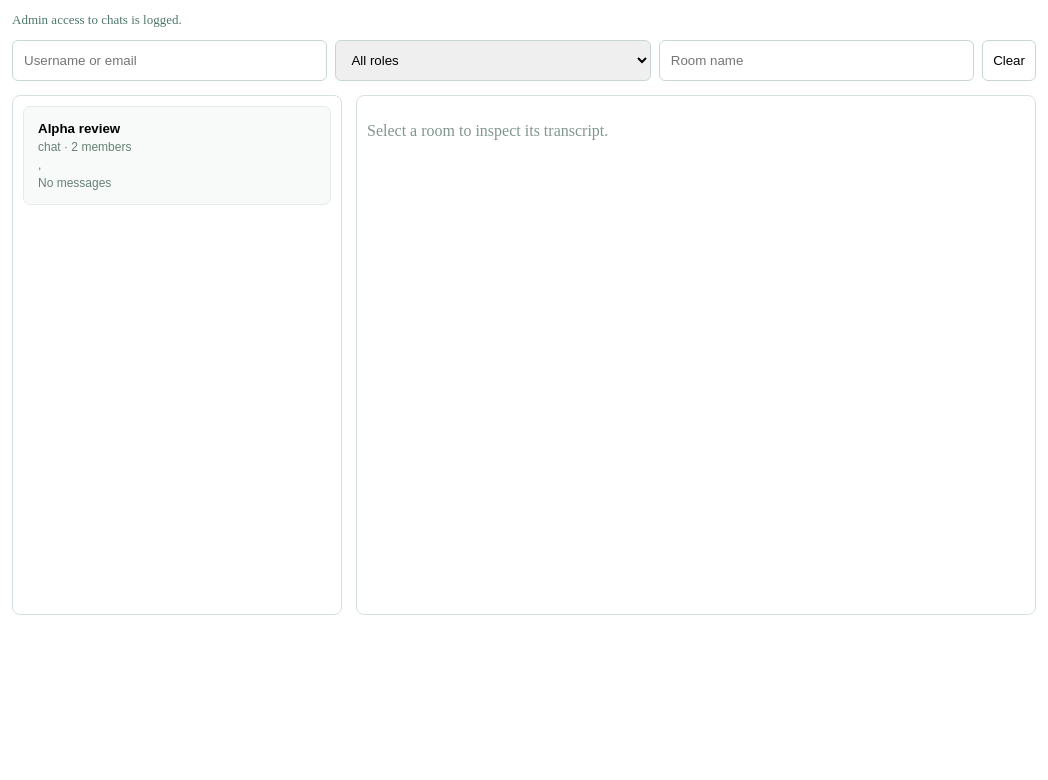
Test case: ADM-CR-01..08 admin surveillance UI › shows an audit notice, title-cased sender tags, and read-only transcript
Expected: the text "Admin access to chats is logged." is shown, [12,12,182,27]
Click the text "Alpha review": [79, 128] box [38,121,120,136]
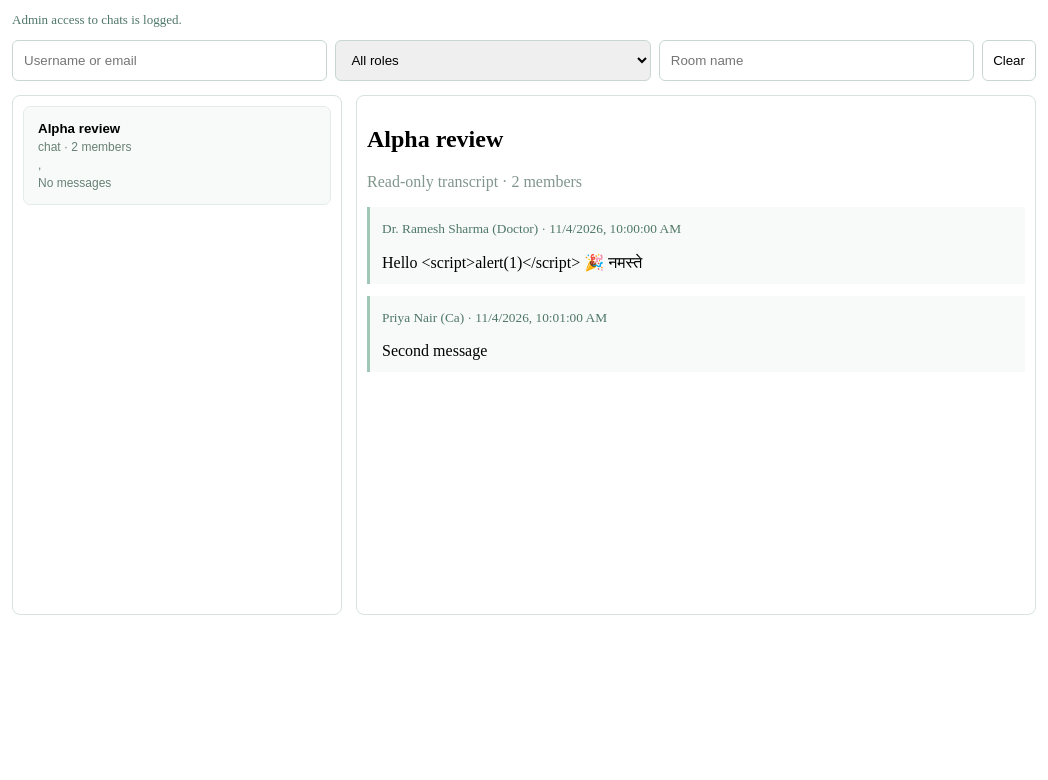
Expected: the text "Read-only transcript · 2 members" is shown, [367,173,582,190]
Expected: the text "Dr. Ramesh Sharma (Doctor) · 11/4/2026, 10:00:00 AM" is shown, [382,221,681,236]
Expected: the text "Priya Nair (Ca) · 11/4/2026, 10:01:00 AM" is shown, [382,310,607,325]
